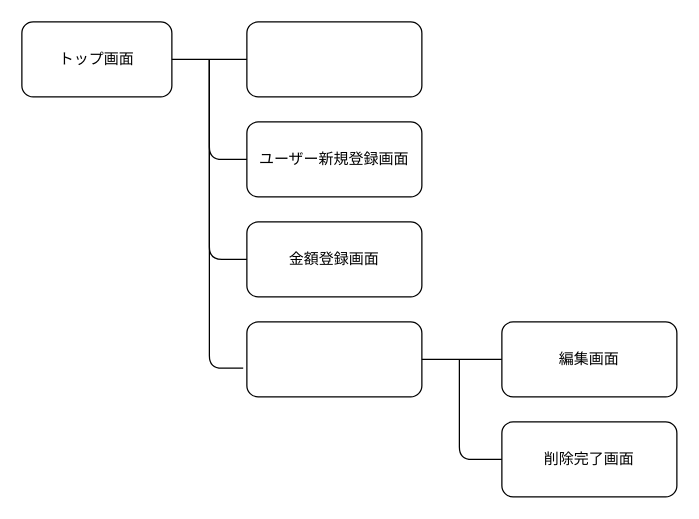
This 699x519 diagram has some shape labels left out. The shapes that lost their labels are listed below. From the top down, each one's centre as x and y in pixels, then its label:
At point (334, 59): "ユーザーログイン画面".
At point (334, 359): "詳細画面".
